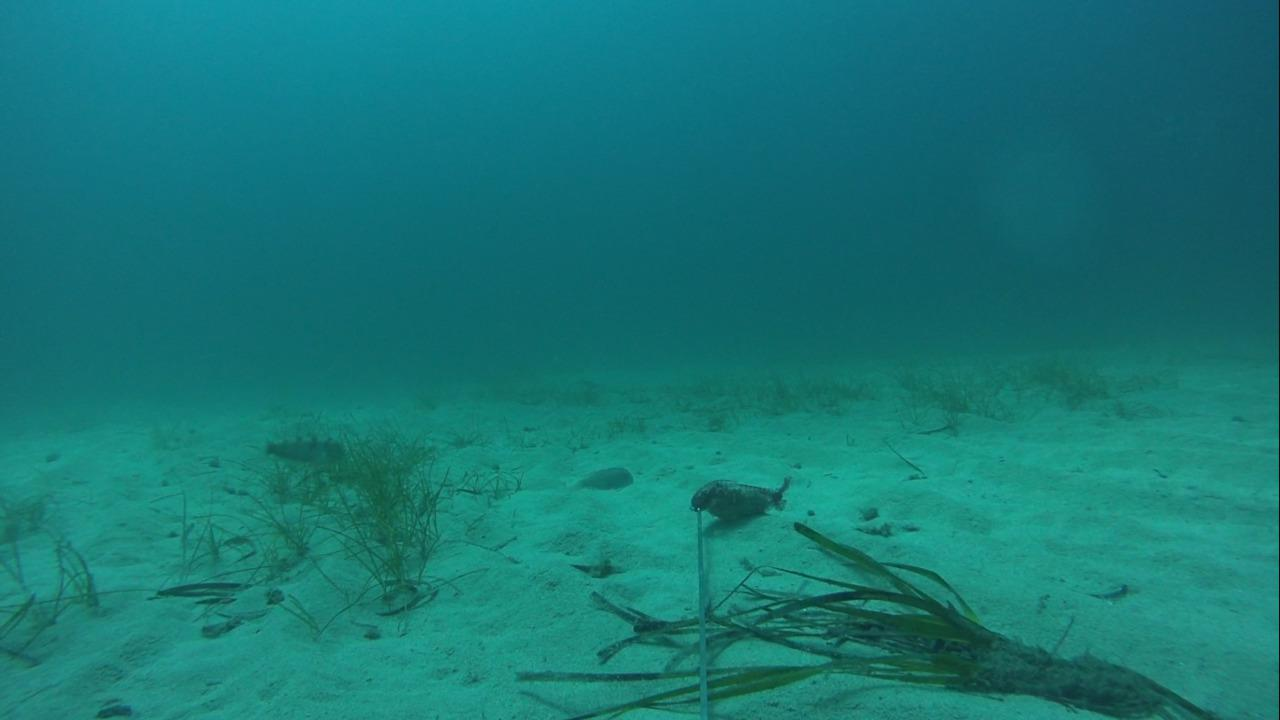raor: (257, 434, 347, 468), (563, 462, 637, 495)
